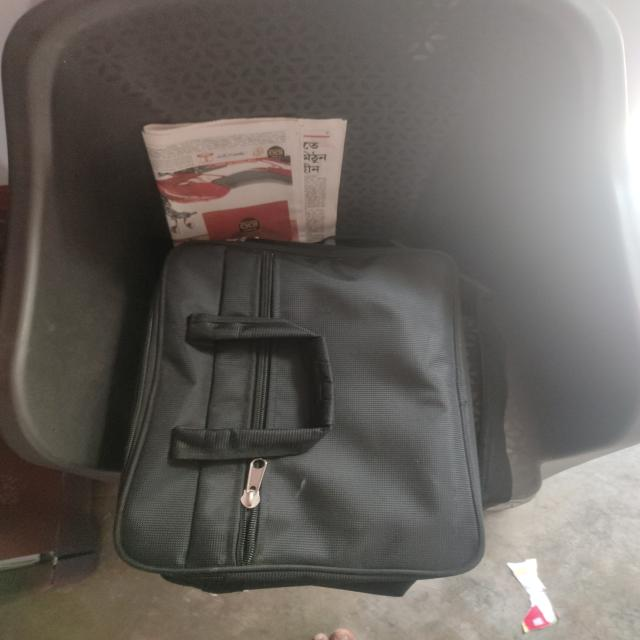suitcaserotation: (103, 232, 520, 600)
